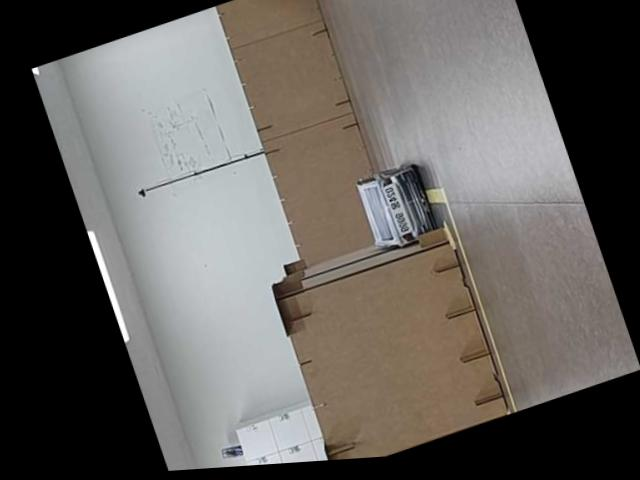car: (352, 159, 441, 256)
id: (378, 180, 413, 238)
